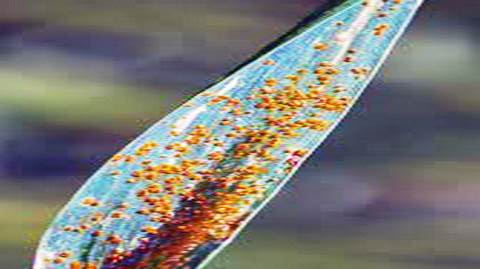Leaf Rust: (119, 46, 367, 262)
